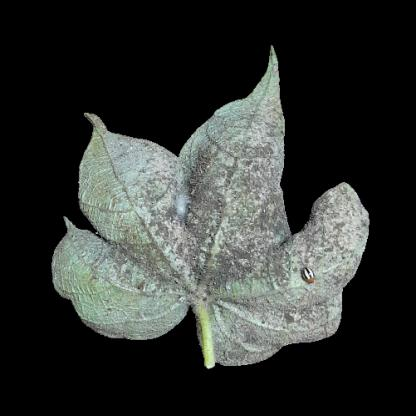curl_stage2: (71, 288, 138, 332), (88, 152, 133, 188)
sooty: (184, 179, 274, 284), (116, 228, 188, 299), (201, 124, 284, 182), (222, 300, 330, 343), (314, 201, 361, 280)
